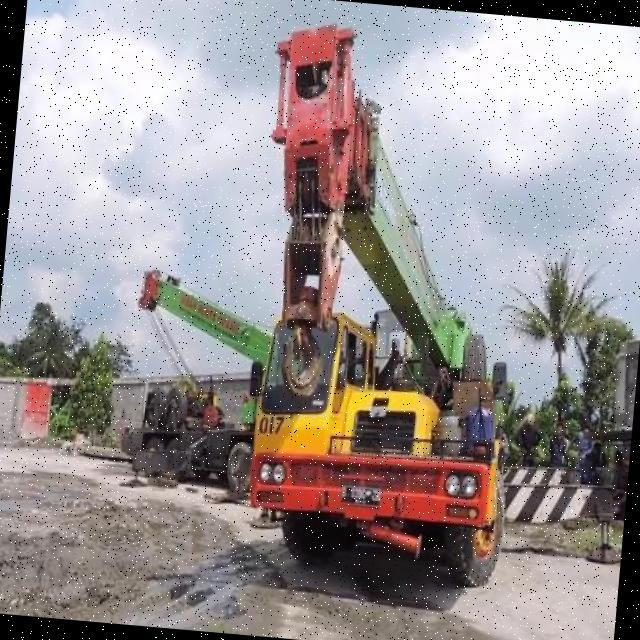Mobile Crane: (231, 20, 640, 597), (117, 261, 273, 494)
